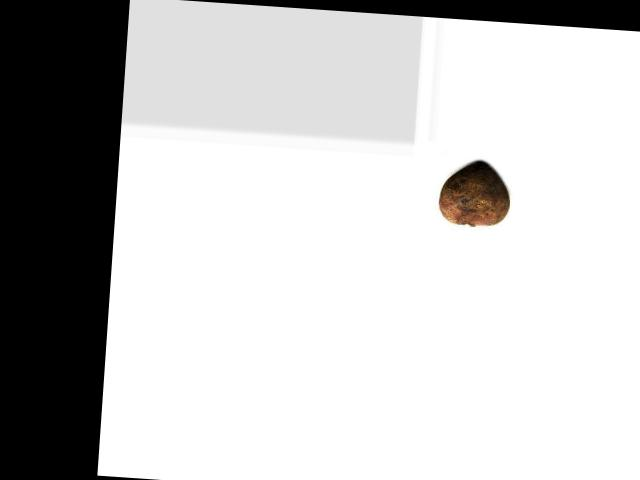beet: (437, 158, 512, 227)
